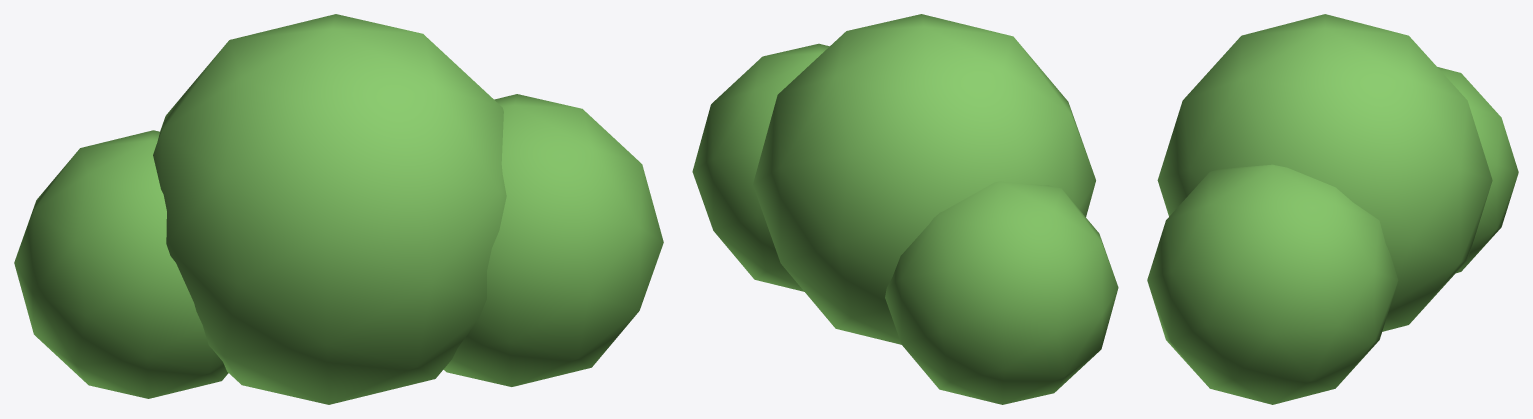
File: bush.glb
3 renders of one model, left to right at view 1: azimuth 30°, elevation 25°; view 2: azimuth 150°, elevation 25°; view 3: azimuth 270°, elevation 25°, orthographic. The views are drawn at different scales.
Parts seen in each view (by area): view 1: bush; view 2: bush; view 3: bush.
Boxes of the visible parts, x1,y1,x2,y2 form: bush: (14,14,663,404); bush: (692,14,1118,404); bush: (1147,14,1518,404).
Bounding box in the file's own units: 0.99 × 0.64 × 0.71.
